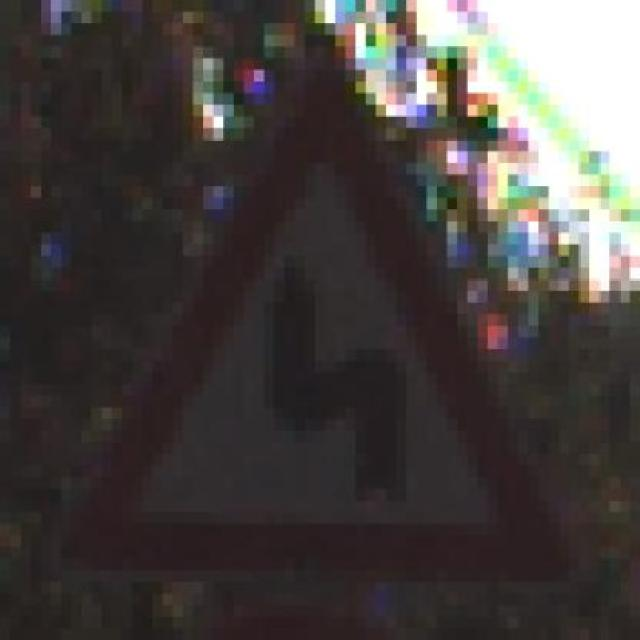Left Zig Zag Traffic: (61, 58, 559, 570)
